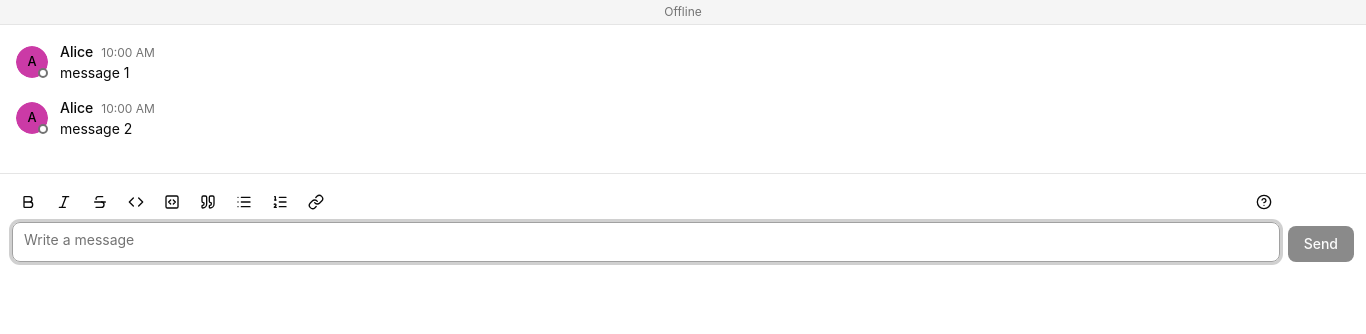
it: does not duplicate the message when the stream delivers it before the response
expect the text "message 2" is shown: met, box [60,120,132,137]
Type "echo" into the field named "Message".
click(646, 242); type("echo")  # box [12,222,1280,262]
Then press Enter
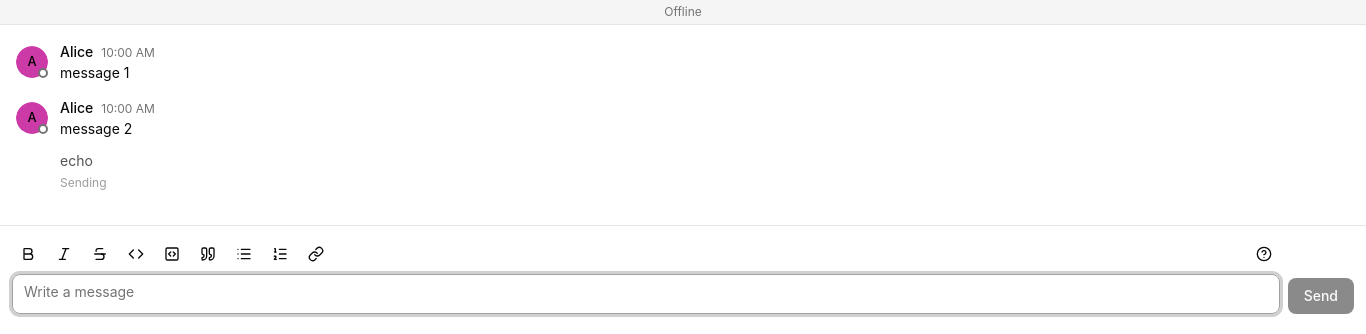
expect the text "Sending" is shown: met, box [60,175,106,190]
